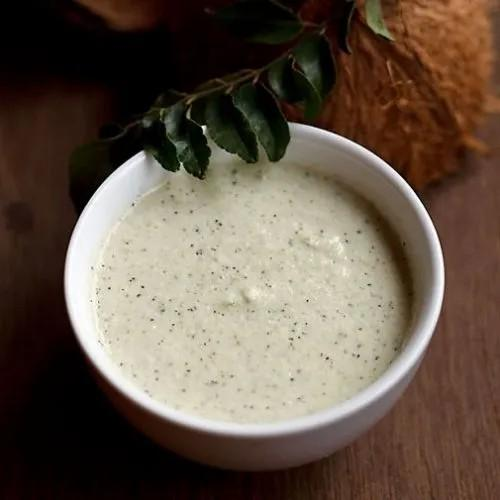CoconutChutney: (95, 161, 414, 424)
